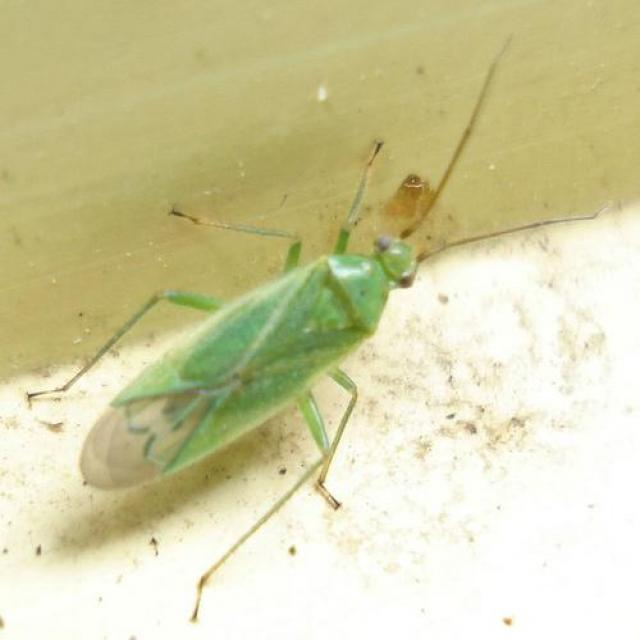Miridae-Adult-: (44, 102, 550, 576)
